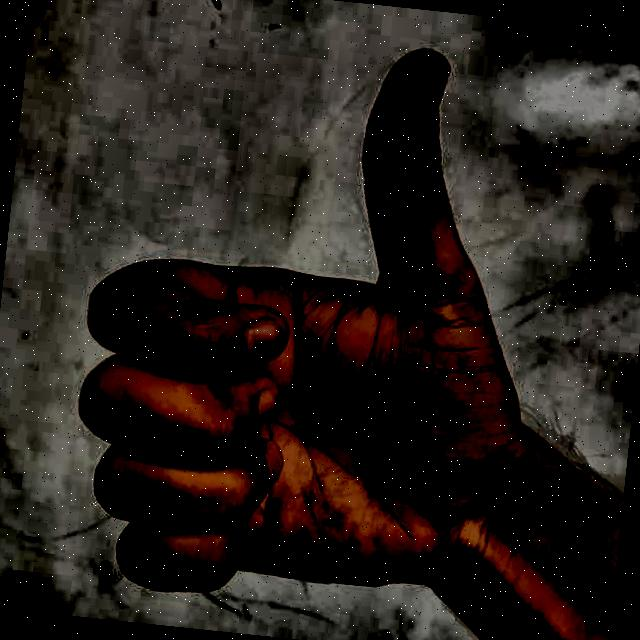Do: (38, 0, 569, 632)
